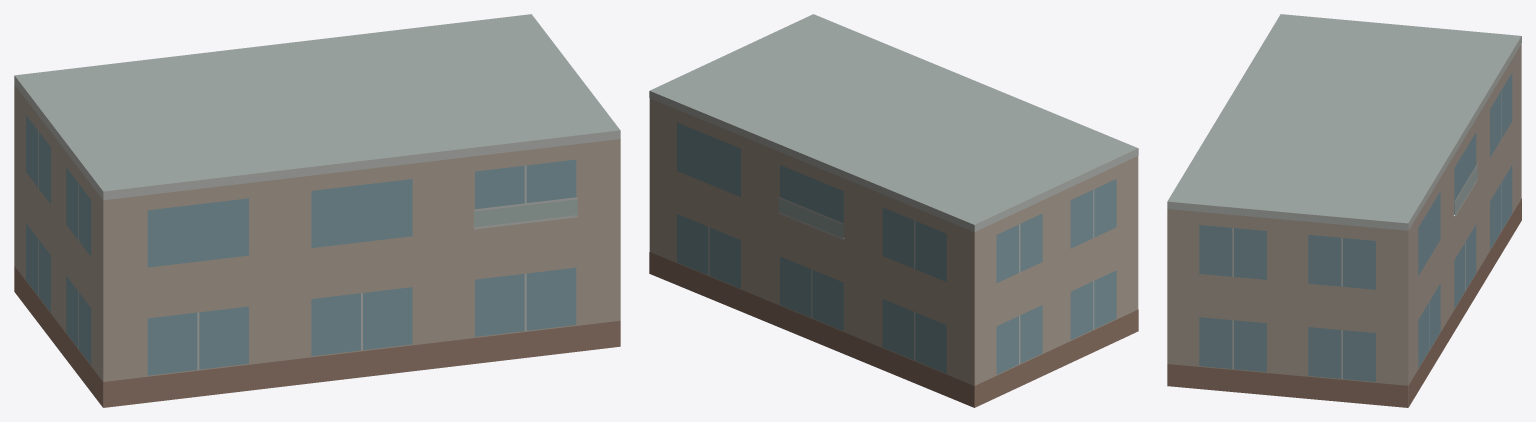
File: survey-upis-32562518.glb
3 renders of one model, left to right at view 1: azimuth 30°, elevation 25°; view 2: azimuth 150°, elevation 25°; view 3: azimuth 270°, elevation 25°, orthographic. The views are drawn at different scales.
Parts seen in each view (by area): view 1: survey-upis-32562518.tmp; view 2: survey-upis-32562518.tmp; view 3: survey-upis-32562518.tmp.
Part boxes in pixels (x1,y1,x2,y2): survey-upis-32562518.tmp: [14, 14, 620, 407]; survey-upis-32562518.tmp: [649, 14, 1138, 407]; survey-upis-32562518.tmp: [1167, 14, 1521, 407].
Bounding box in the file's own units: 14.86 × 6.1 × 10.64.
